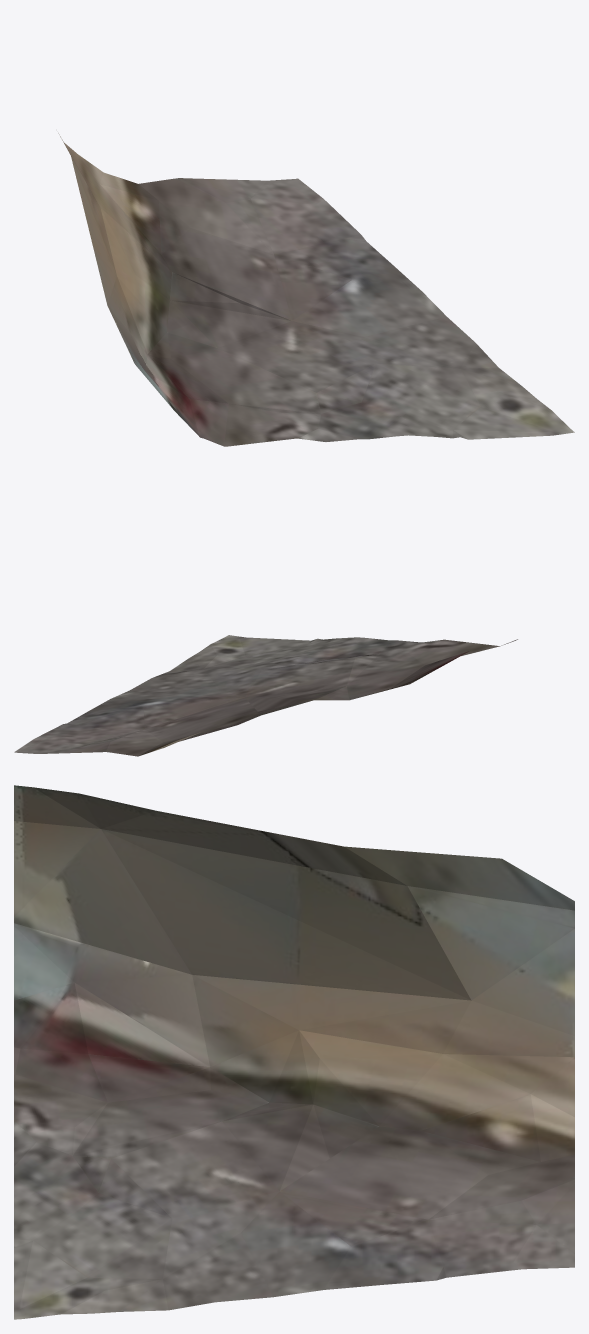
3 views of the same model, one above another, from view 1: azimuth 30°, elevation 25°; view 2: azimuth 150°, elevation 25°; view 3: azimuth 270°, elevation 25° (orthographic). The views are drawn at different scales.
Size of the model in its own units: 1.56 by 1.04 by 1.67.
Materials: 3 (3 with a texture image).
